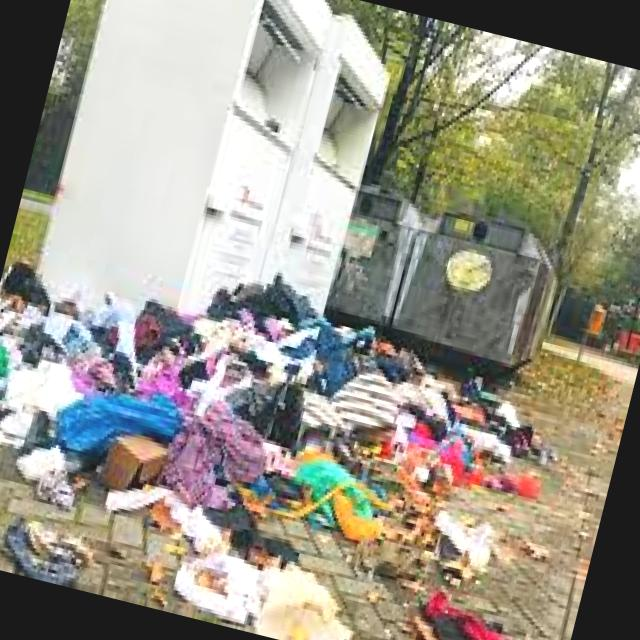garbage: (0, 216, 573, 640)
